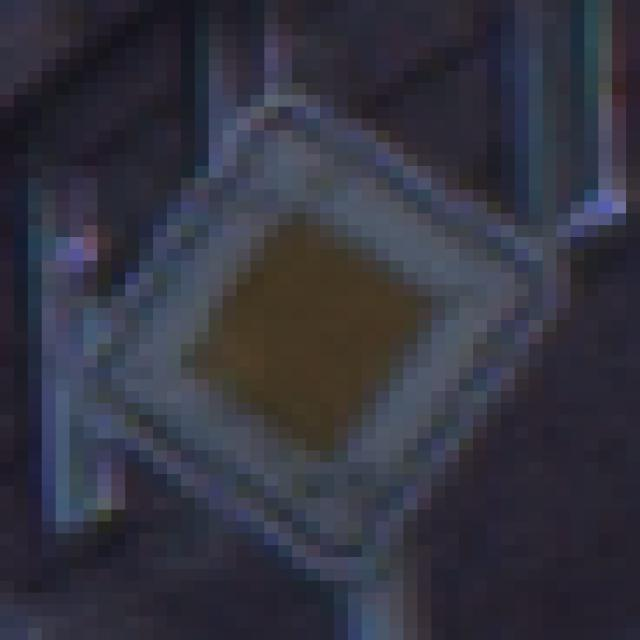Main Road: (85, 72, 572, 582)
